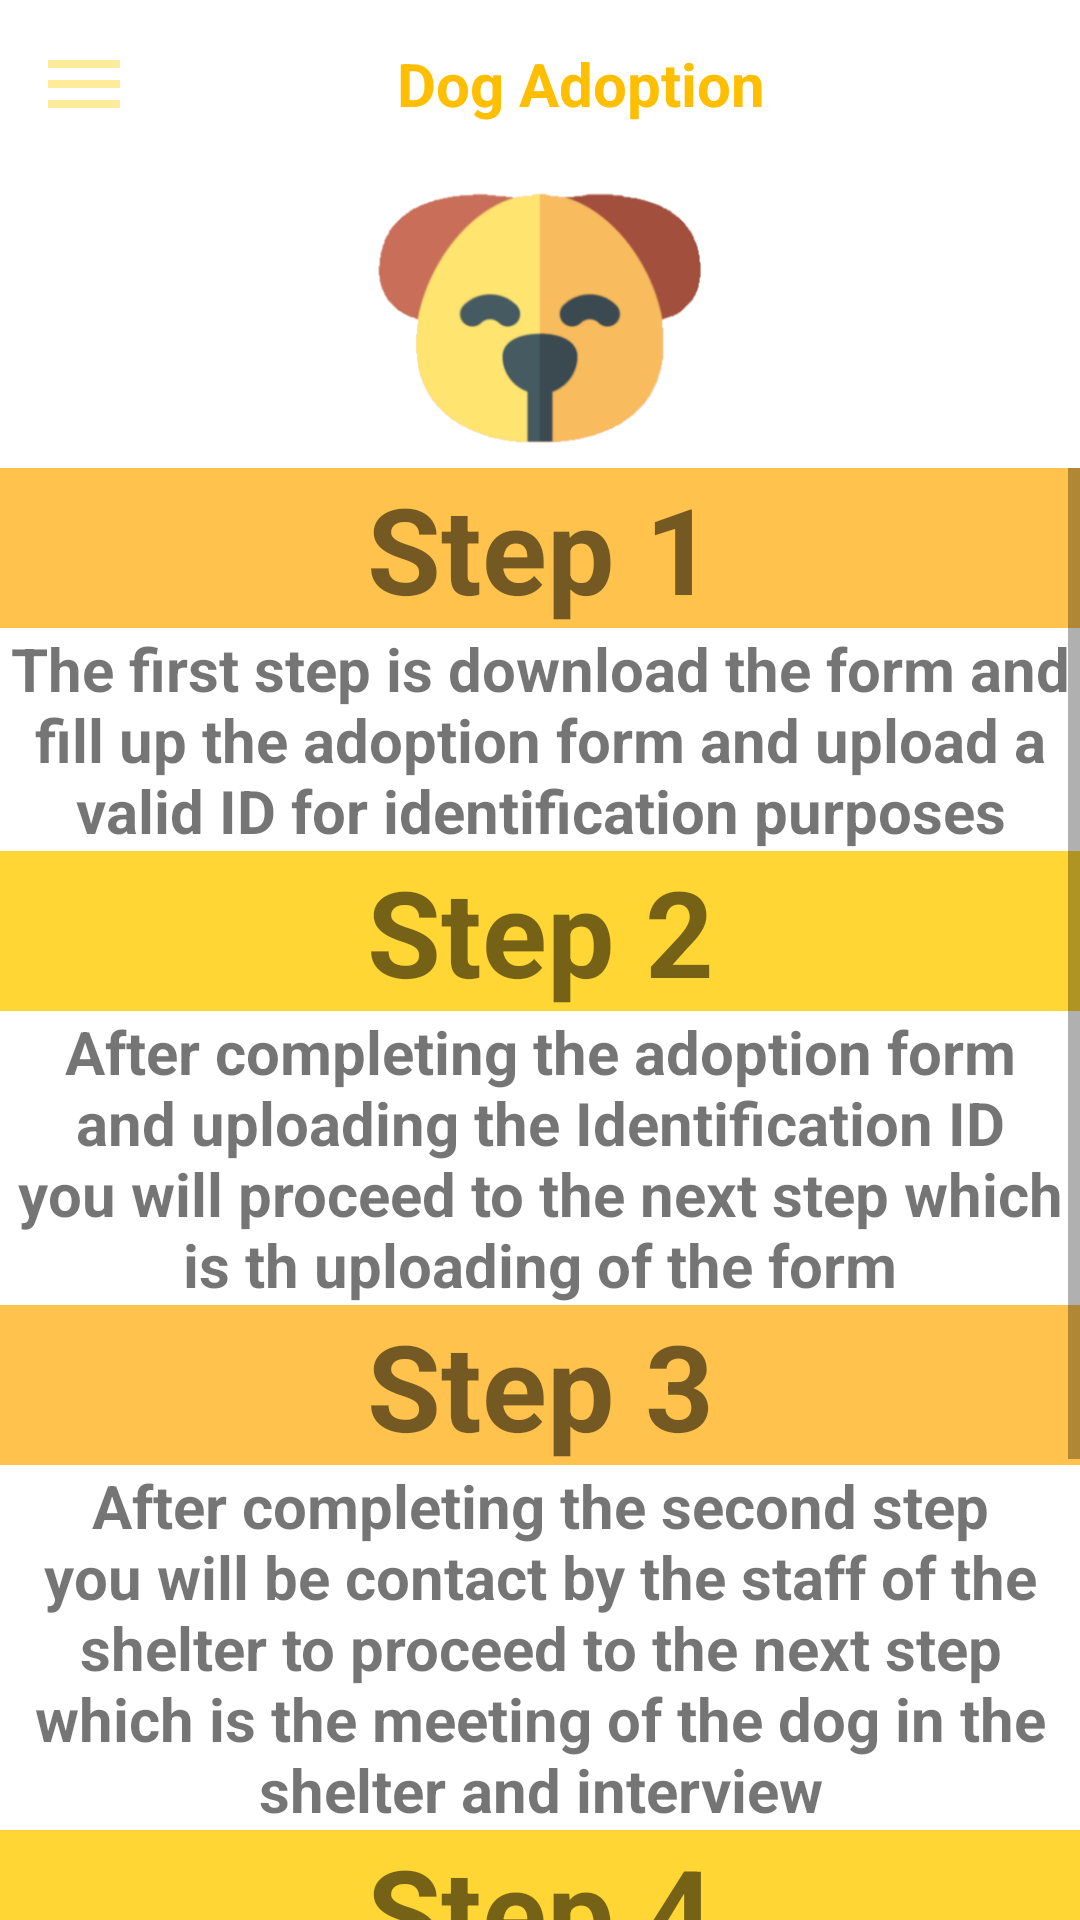

Where to tap for icons on this 1080px x 1920px app screen, as point (x, y):
menu: point (84, 84)
